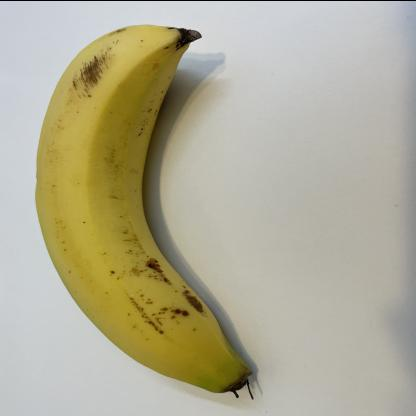banana: (32, 25, 250, 392)
